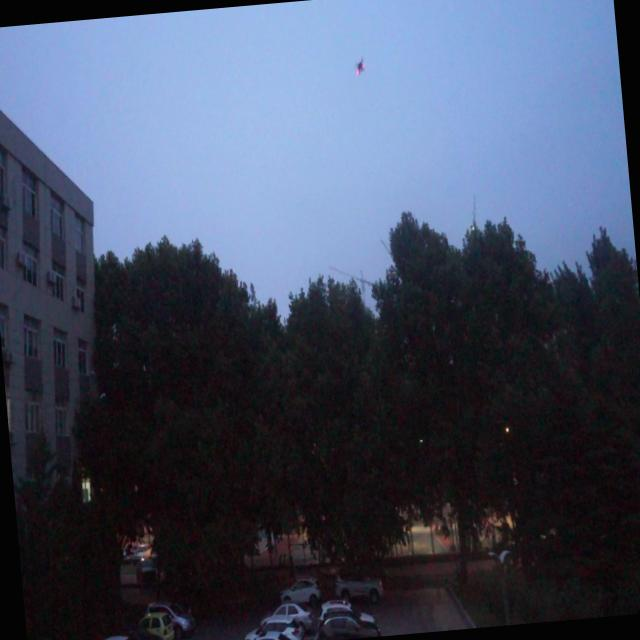drone: (351, 52, 369, 78)
